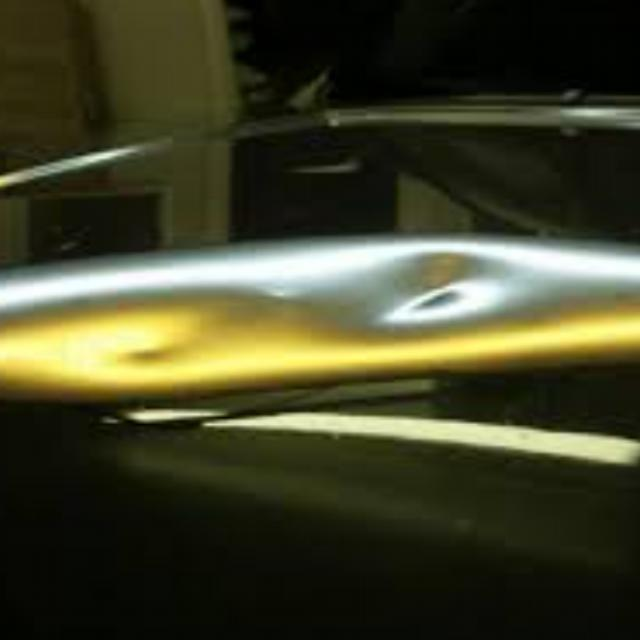dents: (377, 235, 523, 319), (75, 316, 226, 389), (239, 266, 324, 319)
